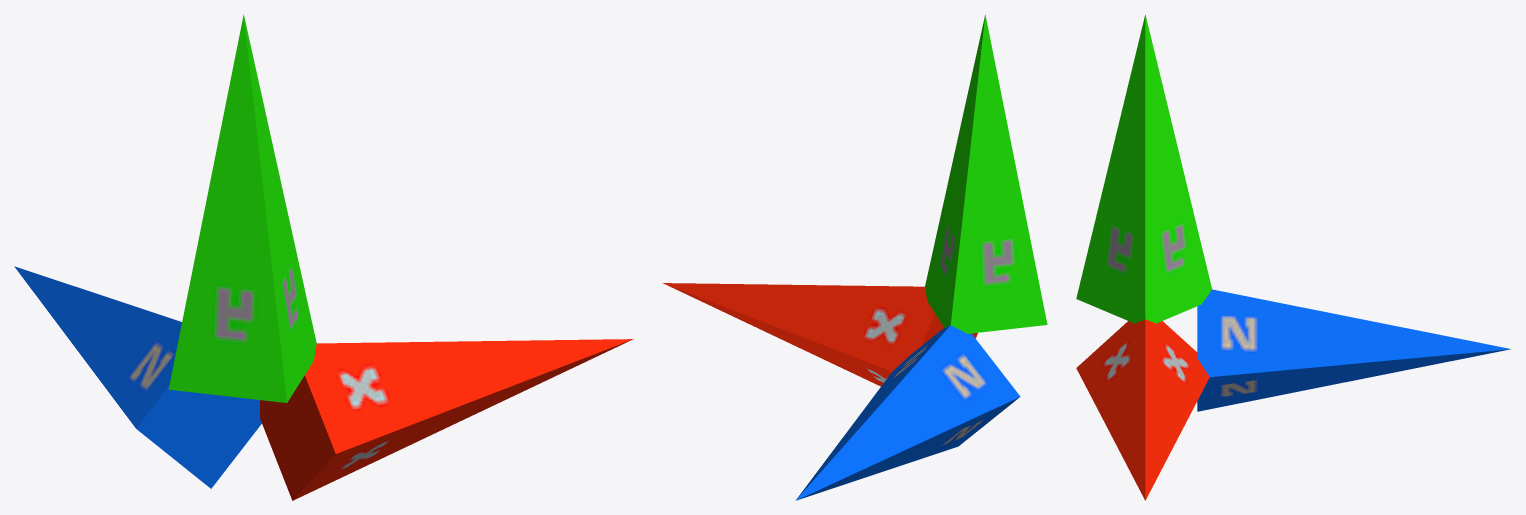
Rendered from p_orientation.fbx.
3 views of the same model, side by side, from view 1: azimuth 30°, elevation 25°; view 2: azimuth 150°, elevation 25°; view 3: azimuth 270°, elevation 25° (orthographic). The views are drawn at different scales.
Visible parts, largest first — view 1: p_orientation; view 2: p_orientation; view 3: p_orientation.
Boxes of the visible parts, left/top/right/bottom form: p_orientation: left=14, top=14, right=633, bottom=500; p_orientation: left=663, top=15, right=1047, bottom=500; p_orientation: left=1076, top=14, right=1511, bottom=500.
Size of the model in its own units: 4.38 by 4.49 by 4.45.
1 material, 1 textured.
